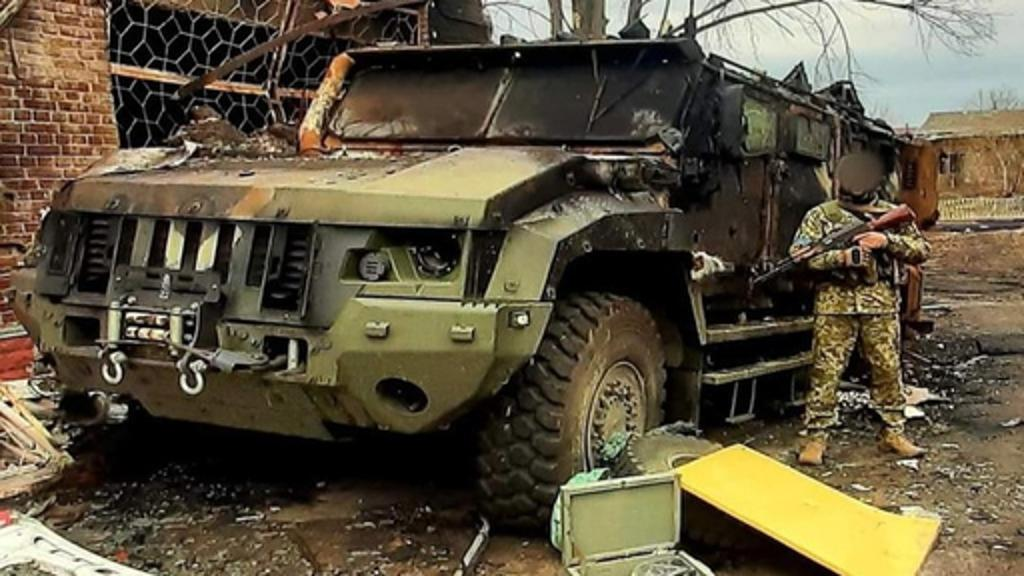CAR: (14, 24, 944, 544)
